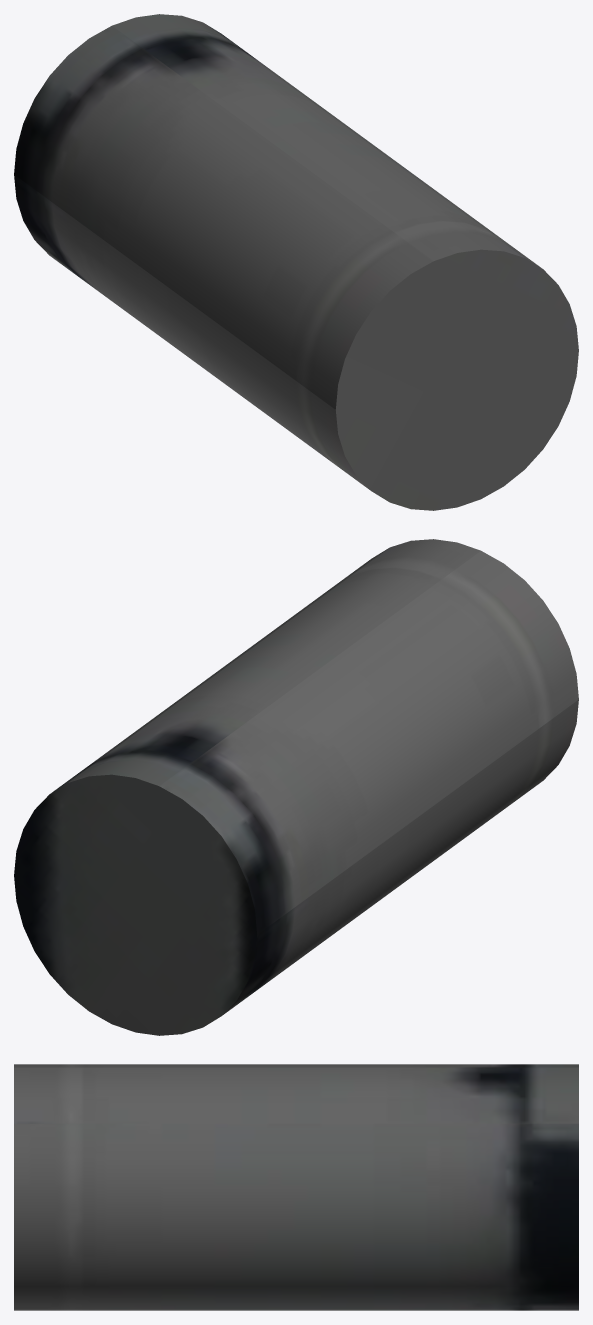
Rendered from housing__caster_stem_2.glb.
3 renders of one model, top to bottom at view 1: azimuth 30°, elevation 25°; view 2: azimuth 150°, elevation 25°; view 3: azimuth 270°, elevation 25°, orthographic. The views are drawn at different scales.
Visible parts, largest first — view 1: geometry_0; view 2: geometry_0; view 3: geometry_0.
Part boxes in pixels (x1=…): geometry_0: x1=14, y1=14, x2=578, y2=510; geometry_0: x1=14, y1=539, x2=578, y2=1035; geometry_0: x1=14, y1=1064, x2=578, y2=1310.
Bounding box in the file's own units: 0.024 × 0.024 × 0.055.
Materials: 1 (1 with a texture image).
